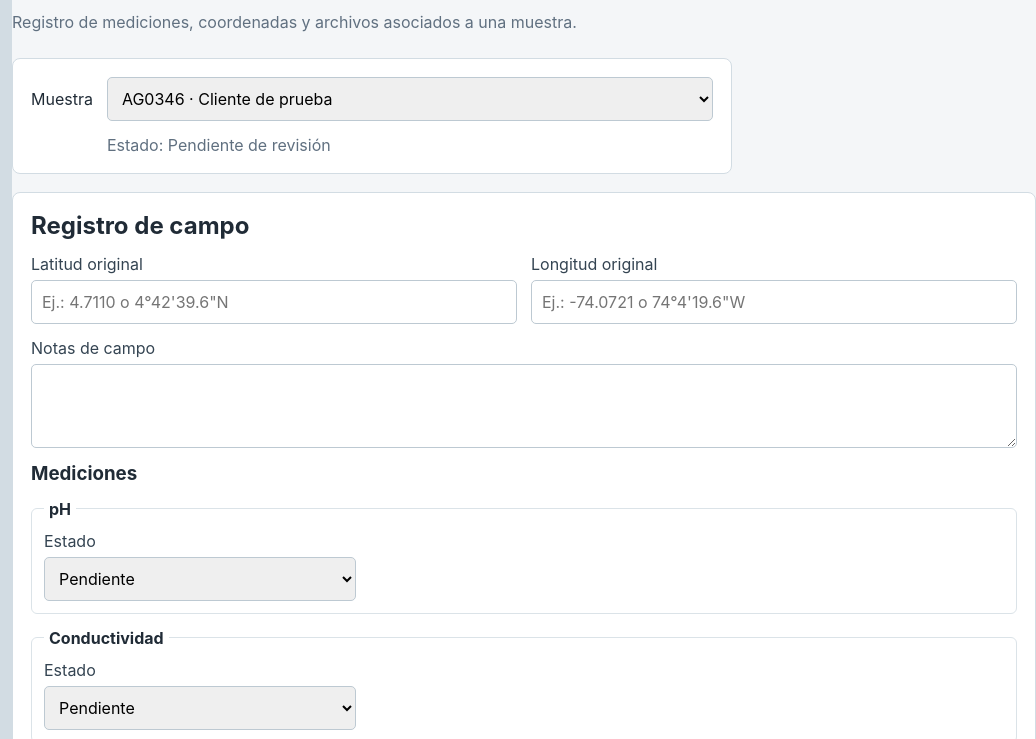
datos de campo y adjuntos › guarda cero como VALUE y separa NOT_REPORTED de un valor numérico
Expected: the field labelled "Latitud original" is shown, [31,280,517,324]
Select "Valor registrado" in the dropdown named "Estado de pH" at (200, 579), box [44,557,356,601]
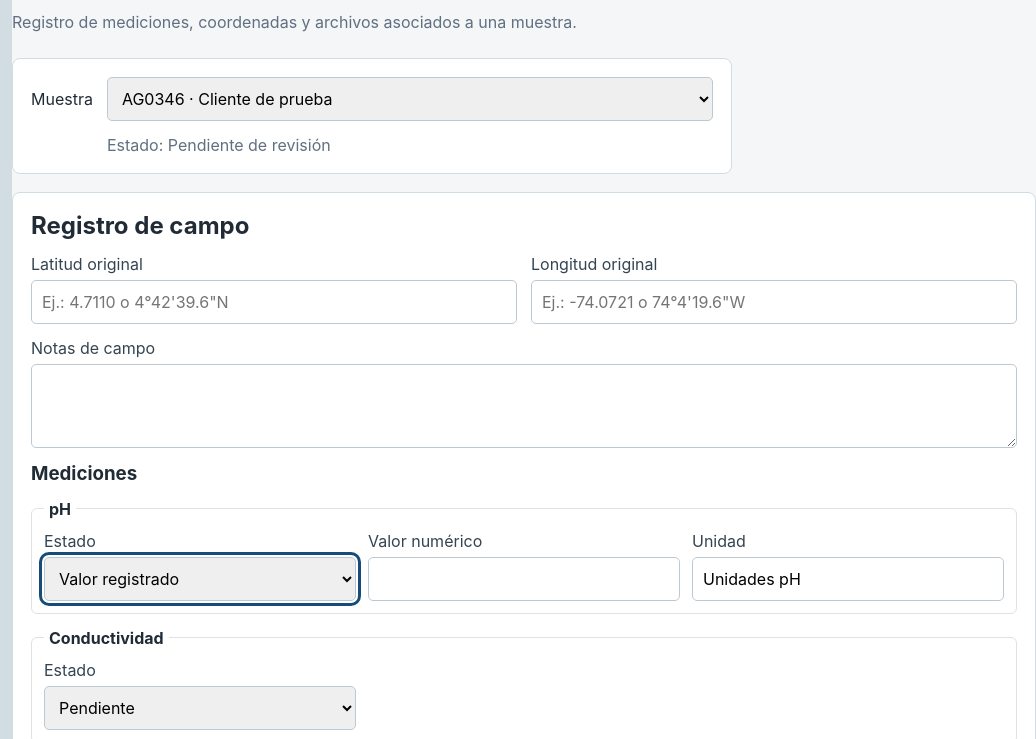
Type "0" into the field named "Valor de pH" at (524, 579), box [368,557,680,601]
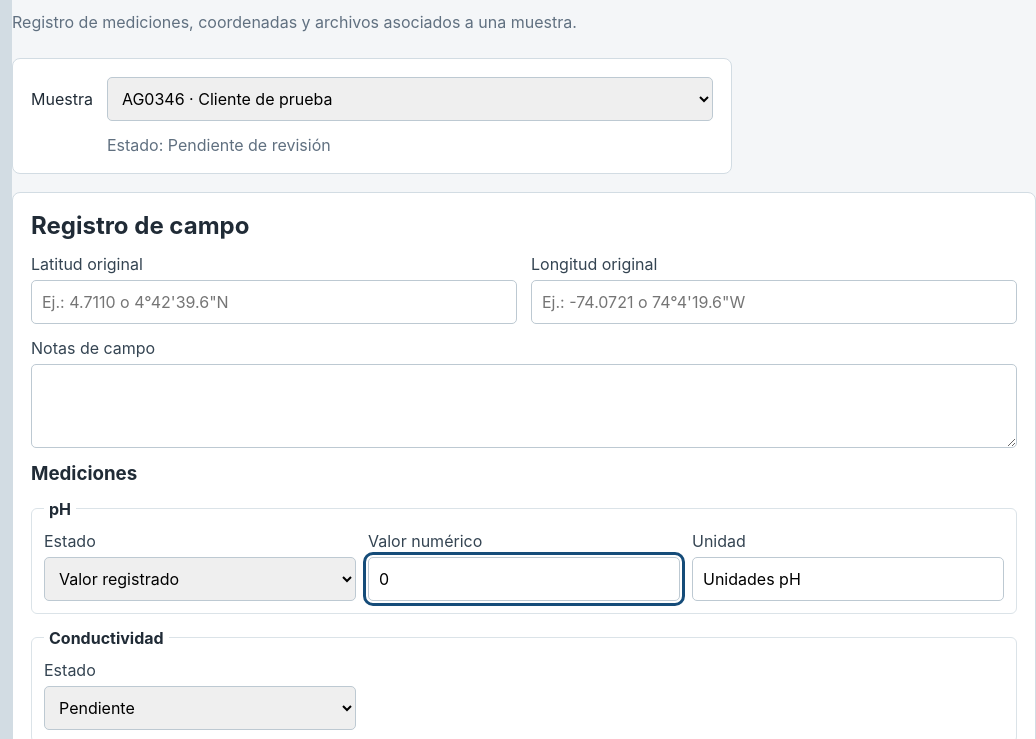
Select "No reportado" in the dropdown named "Estado de Conductividad" at (200, 708), box [44,686,356,730]
(page scrolled)
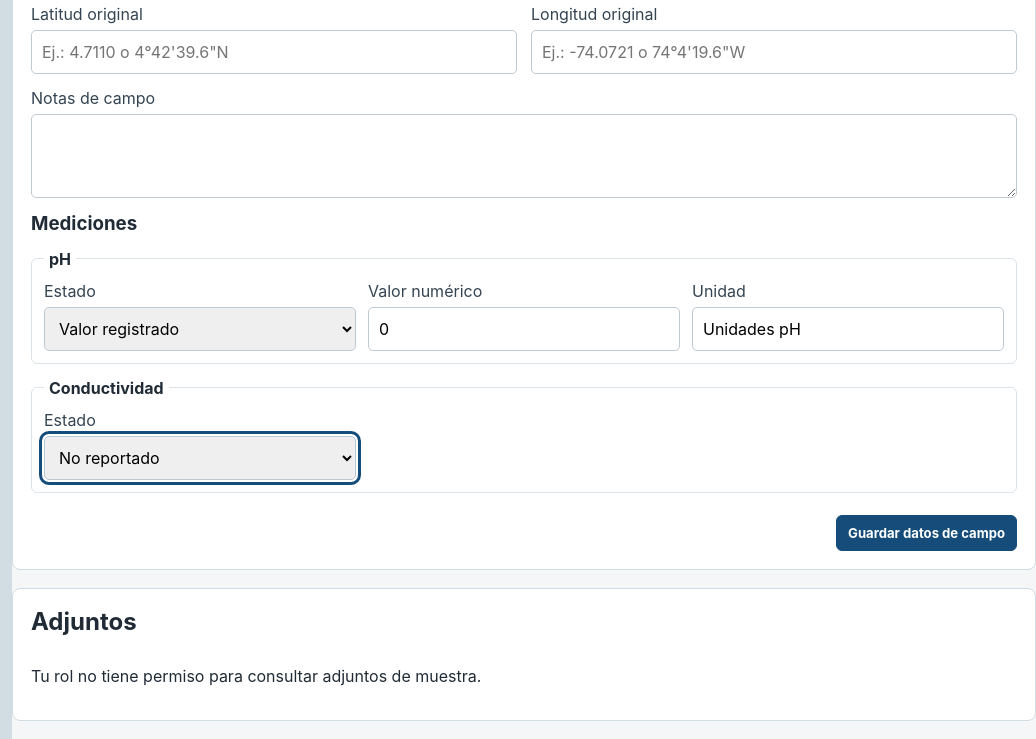
Click the button "Guardar datos de campo" at (927, 533), box [836,515,1017,551]
(page scrolled)
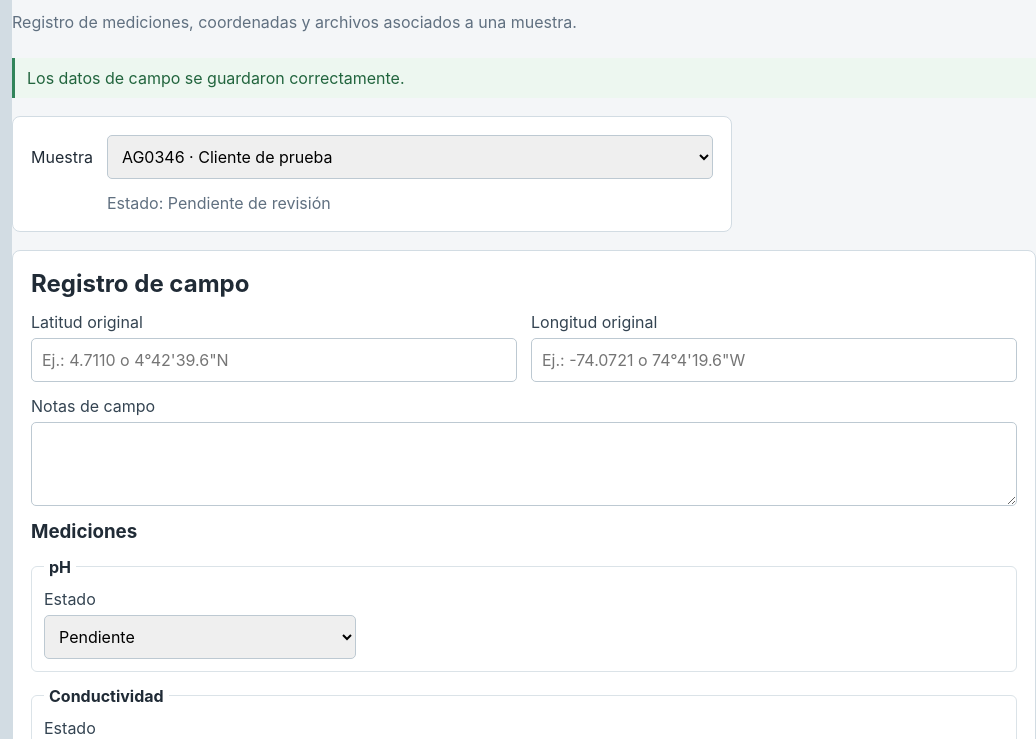
Result: the message reads "Los datos de campo se guardaron correctamente." at [27,68,404,88]
